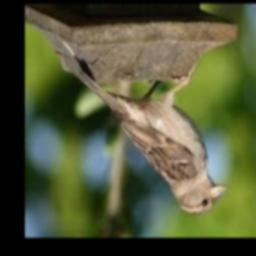Sparrow: (80, 68, 226, 214)
